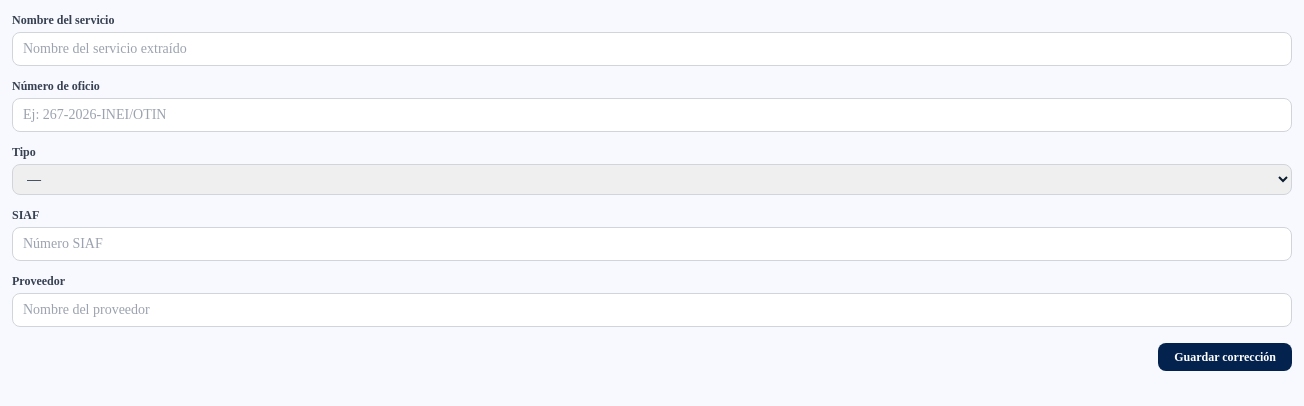
CorreccionInline — validación Zod › muestra error si nombre_servicio está vacío al enviar
Step 1. Click the button "Guardar corrección" → (1225, 357), box [1158,343,1292,371]
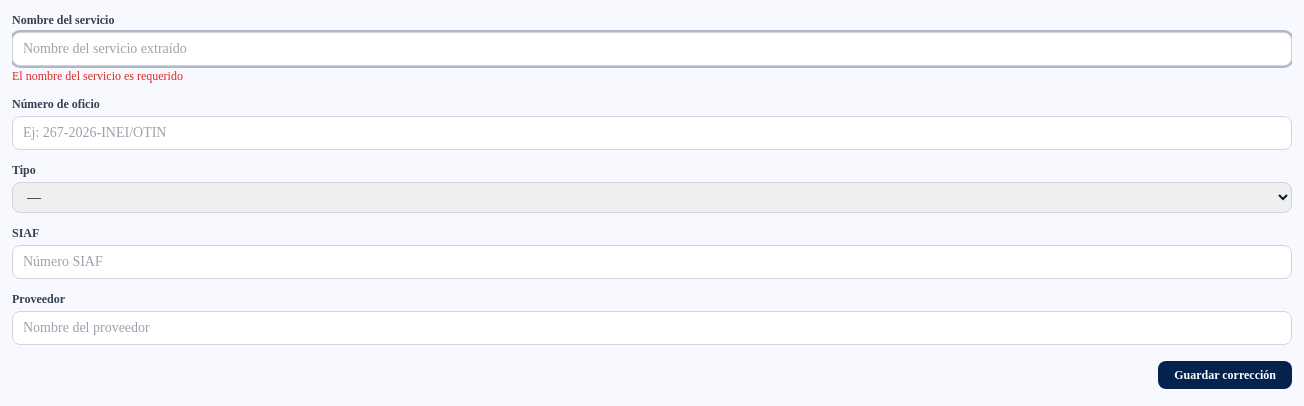
Expected: the text "El nombre del servicio es requerido" is shown, [12,69,183,83]
